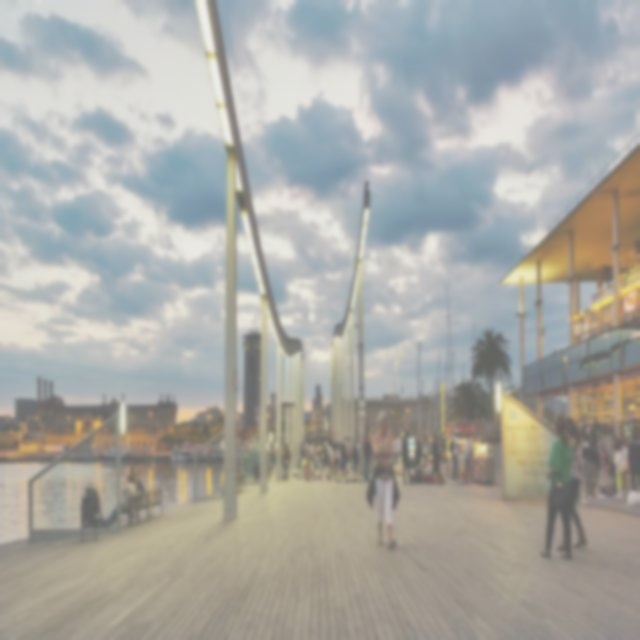pessoa: (538, 412, 574, 562), (372, 408, 398, 550), (564, 414, 588, 554), (99, 472, 137, 528), (584, 436, 600, 499), (131, 473, 146, 524), (627, 431, 639, 494), (448, 426, 461, 482), (580, 434, 592, 494), (400, 427, 412, 485), (609, 433, 620, 495), (462, 432, 474, 485), (597, 443, 609, 493), (362, 433, 373, 483), (429, 436, 442, 478), (302, 427, 332, 442), (130, 461, 144, 492), (350, 440, 360, 483), (413, 439, 424, 477), (620, 438, 628, 490), (580, 421, 598, 443), (303, 434, 311, 482), (612, 442, 622, 478), (266, 442, 278, 472), (283, 443, 292, 481), (340, 442, 348, 479), (280, 442, 288, 479), (298, 454, 310, 478), (234, 458, 243, 490), (307, 454, 316, 482), (312, 457, 322, 480), (326, 442, 332, 479), (626, 399, 638, 417), (334, 441, 340, 476), (330, 447, 336, 477), (322, 442, 328, 472), (578, 442, 584, 472), (308, 442, 321, 454), (338, 446, 343, 476), (344, 436, 350, 459), (300, 441, 306, 463), (422, 452, 428, 468), (236, 438, 241, 454)
